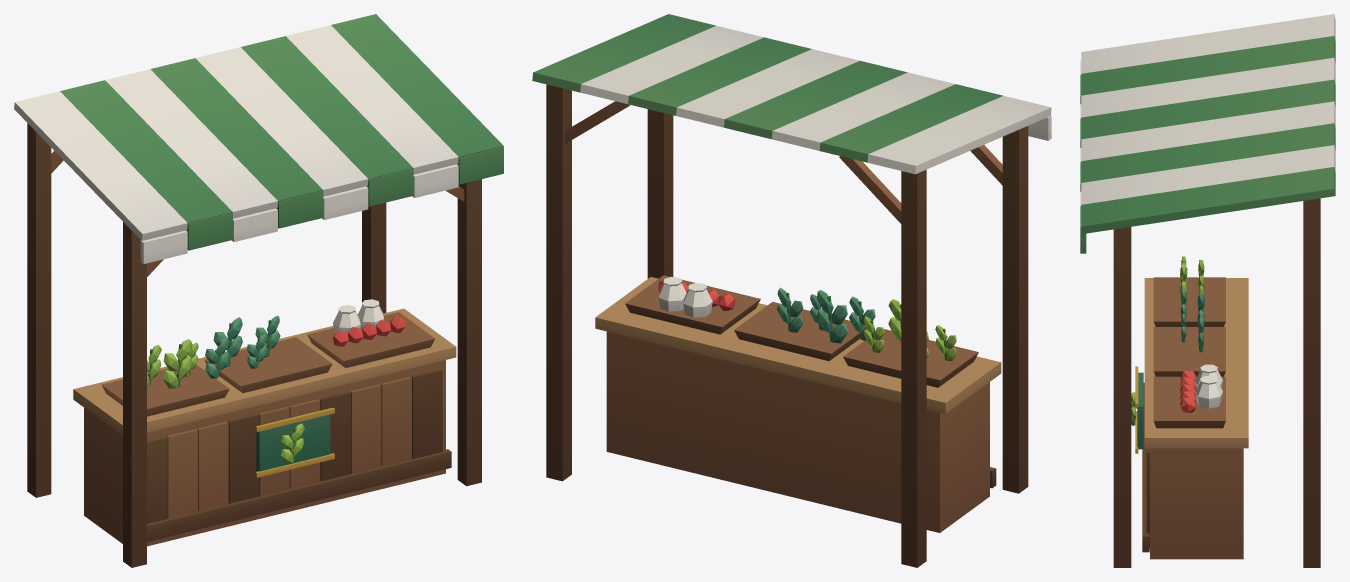
Rendered from stall_selma.glb.
3 renders of one model, left to right at view 1: azimuth 30°, elevation 25°; view 2: azimuth 150°, elevation 25°; view 3: azimuth 270°, elevation 25°, orthographic. The views are drawn at different scales.
Parts seen in each view (by area): view 1: stall_selma; view 2: stall_selma; view 3: stall_selma.
Part boxes in pixels (<box>): stall_selma: <box>14,14,503,567</box>; stall_selma: <box>532,14,1051,567</box>; stall_selma: <box>1080,14,1335,567</box>.
Size of the model in its own units: 8.96 by 9.14 by 5.54.
1 material, 1 textured.
